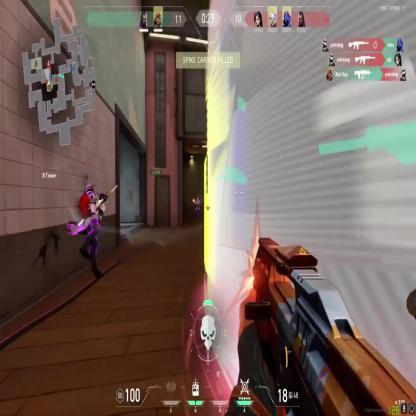enemy: (194, 195, 200, 216)
enemy_head: (196, 196, 199, 200)
